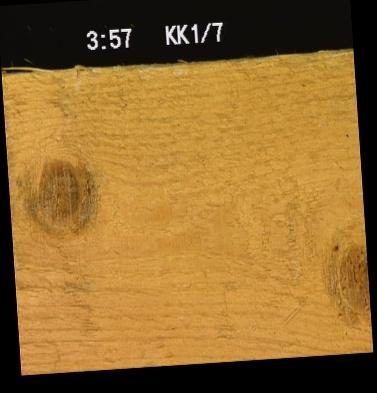sound_knot: (23, 154, 101, 237), (322, 236, 367, 330)
